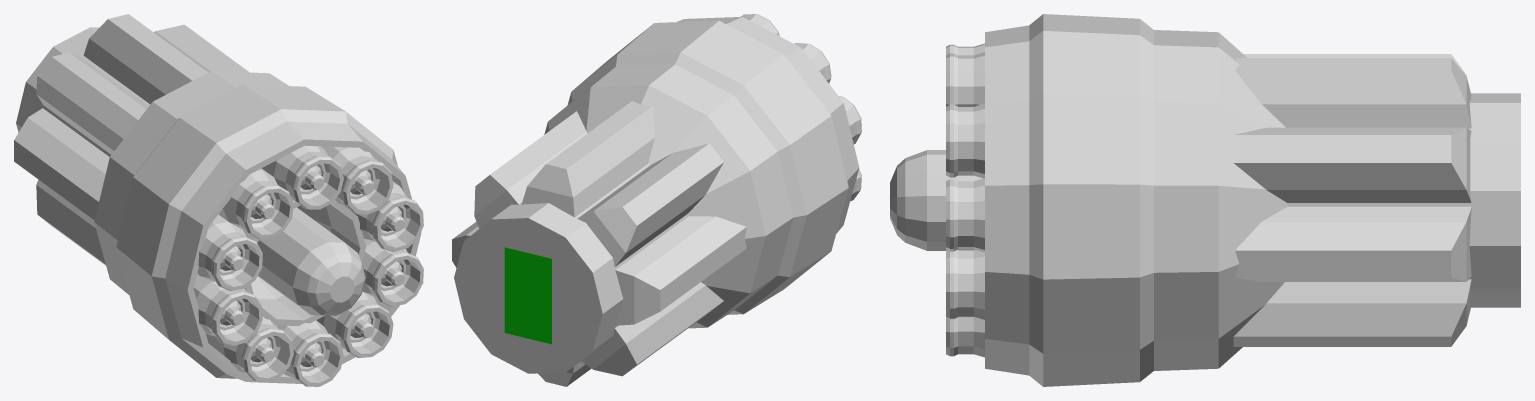
Rendered from engine.multi.001.fbx.
3 renders of one model, left to right at view 1: azimuth 30°, elevation 25°; view 2: azimuth 150°, elevation 25°; view 3: azimuth 270°, elevation 25°, orthographic. The views are drawn at different scales.
Visible parts, largest first — view 1: engine.multi.001; view 2: engine.multi.001; view 3: engine.multi.001.
Part boxes in pixels (x1=…): engine.multi.001: x1=14, y1=14, x2=423, y2=386; engine.multi.001: x1=452, y1=14, x2=861, y2=386; engine.multi.001: x1=890, y1=14, x2=1520, y2=386.
Bounding box in the file's own units: 4.86 × 4.86 × 8.2.
